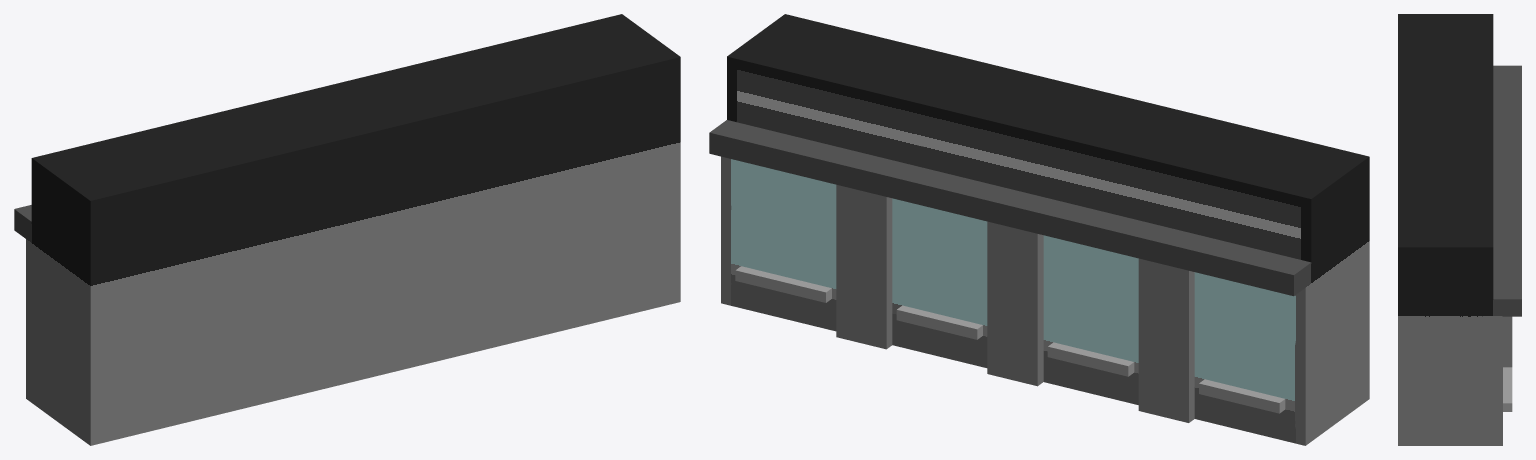
The model's file is obj_store12.dae.
3 views of the same model, side by side, from view 1: azimuth 30°, elevation 25°; view 2: azimuth 150°, elevation 25°; view 3: azimuth 270°, elevation 25° (orthographic). The views are drawn at different scales.
Parts seen in each view (by area): view 1: obj_store12; view 2: obj_store12; view 3: obj_store12.
Boxes of the visible parts, x1,y1,x2,y2 form: obj_store12: (14,14,680,445); obj_store12: (709,14,1369,445); obj_store12: (1398,14,1521,445).
Bounding box in the file's own units: 5.8 × 1.3 × 2.3.
1 material, 1 textured.
